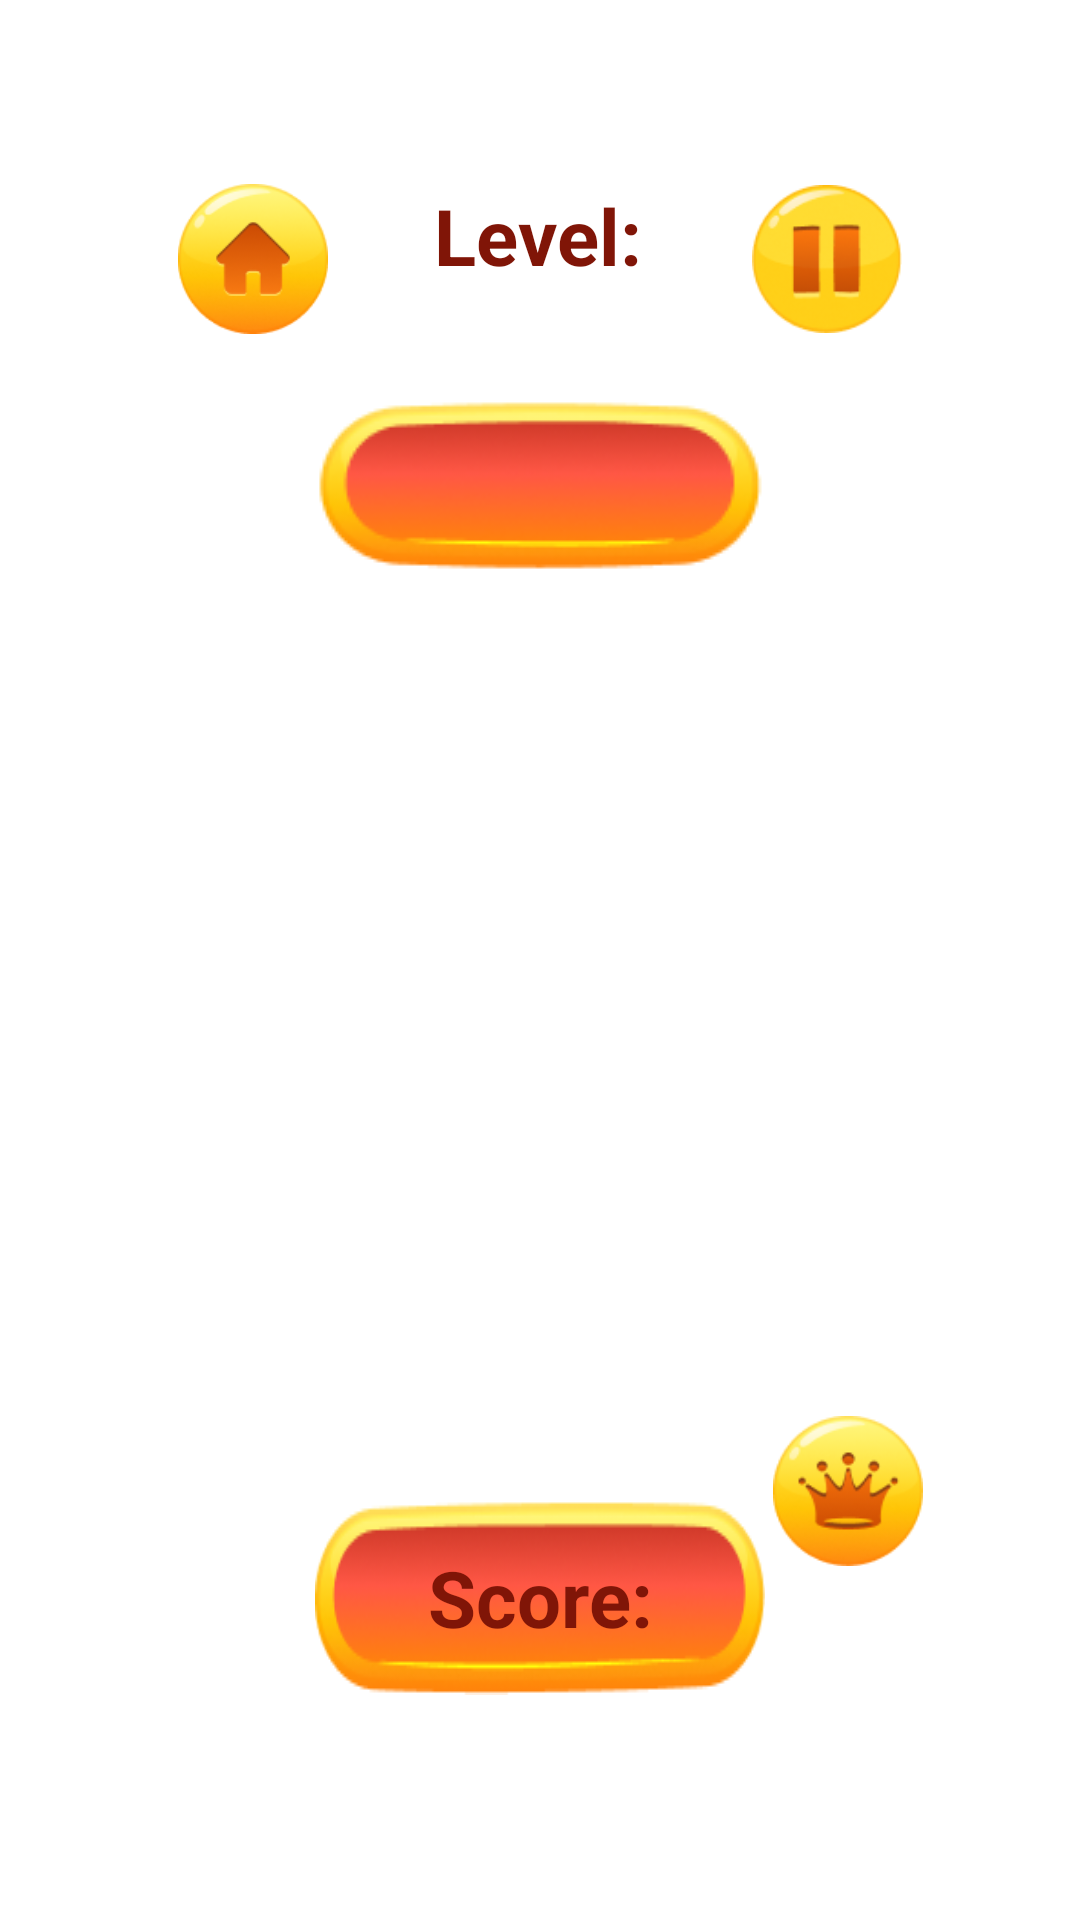

Where to tap for icons on this 1080 x 1920 app screen, as point (x, y):
home: point (253, 259)
leaderboard: point (848, 1491)
pause: point (827, 259)
